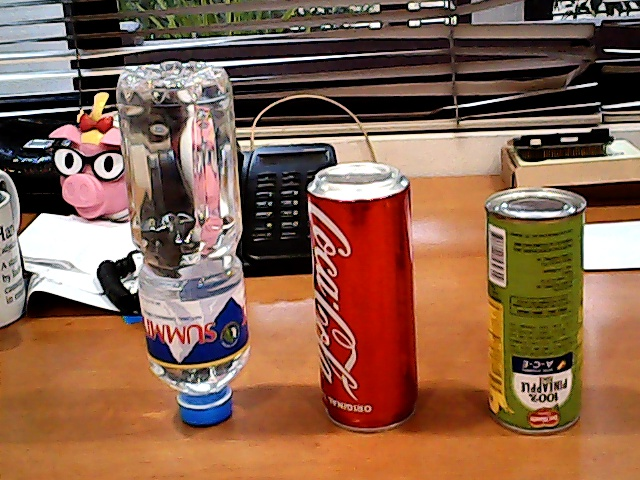Cola: (292, 144, 429, 442)
Pine Juice: (471, 172, 597, 445)
Summit Water: (102, 51, 265, 435)
